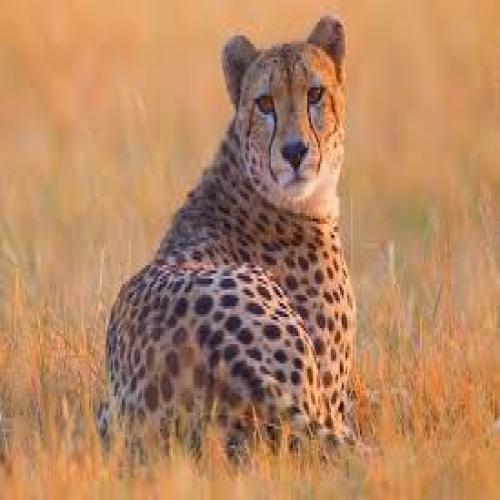cheetah-endangered: (108, 15, 358, 463)
